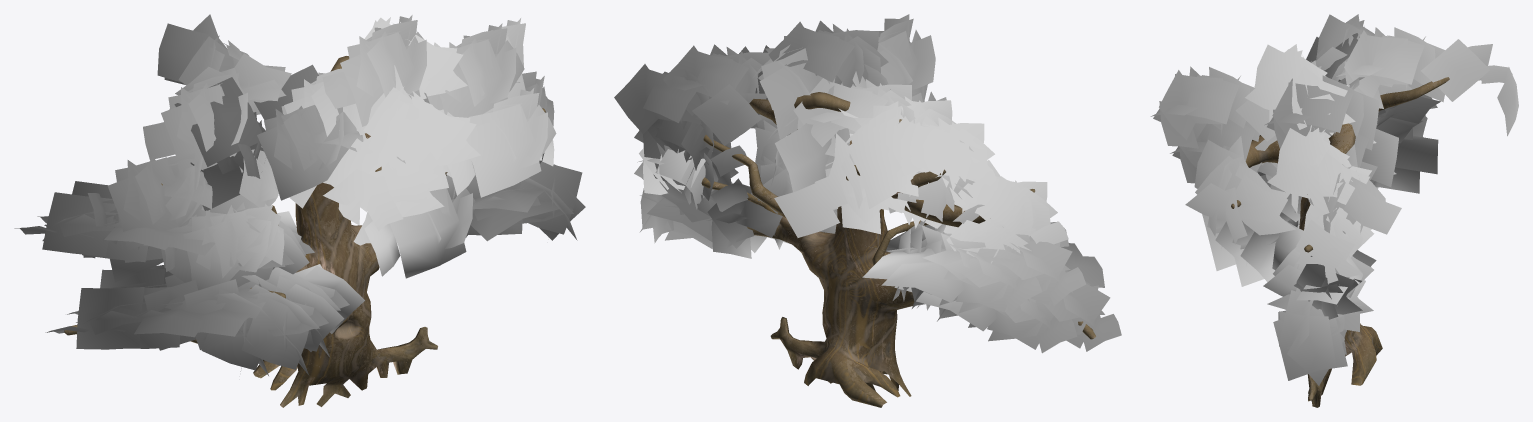
The model's file is tree_.fbx.
3 renders of one model, left to right at view 1: azimuth 30°, elevation 25°; view 2: azimuth 150°, elevation 25°; view 3: azimuth 270°, elevation 25°, orthographic. The views are drawn at different scales.
Visible parts, largest first — view 1: pPlane27, polySurface1; view 2: pPlane27, polySurface1; view 3: pPlane27, polySurface1.
Boxes of the visible parts, x1,y1,x2,y2 form: pPlane27: [14, 14, 585, 375]; polySurface1: [64, 56, 545, 407]; pPlane27: [614, 14, 1121, 353]; polySurface1: [701, 92, 1095, 407]; pPlane27: [1150, 14, 1518, 385]; polySurface1: [1231, 77, 1449, 407].
Bounding box in the file's own units: 527 × 358 × 339.
